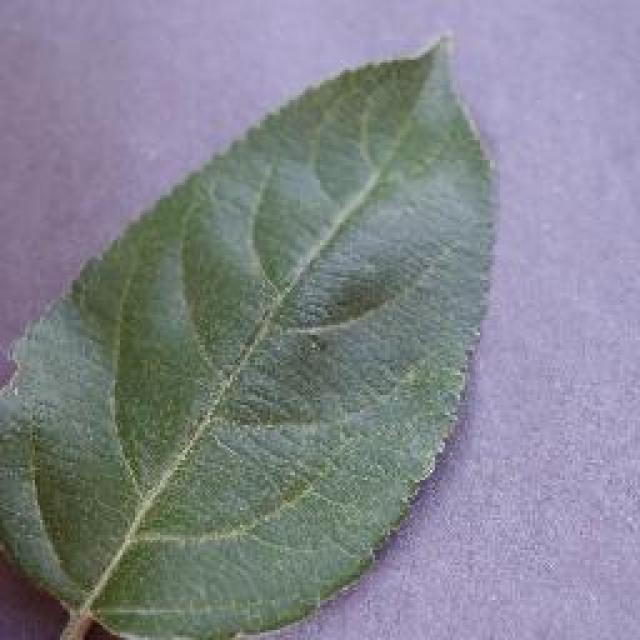apple healthy: (0, 30, 502, 637)
